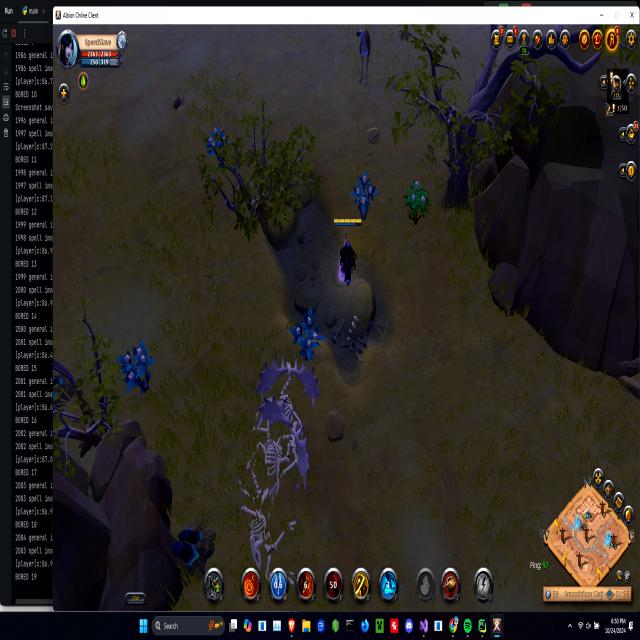hide: (288, 296, 326, 369), (116, 336, 156, 398), (348, 167, 379, 222), (402, 174, 430, 230), (204, 124, 230, 166)
ore: (354, 23, 374, 89)
red: (329, 209, 365, 292)
